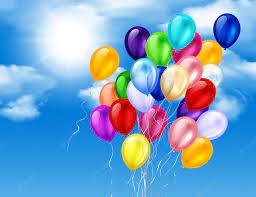Balloon: (122, 133, 150, 170), (185, 78, 215, 111), (169, 116, 197, 151), (90, 46, 119, 79), (213, 13, 240, 48), (182, 139, 213, 169), (90, 105, 115, 142), (140, 105, 166, 140), (131, 58, 157, 93), (110, 99, 135, 134), (169, 15, 195, 48), (124, 25, 149, 59), (197, 111, 228, 138), (162, 65, 187, 98), (146, 31, 170, 63)
